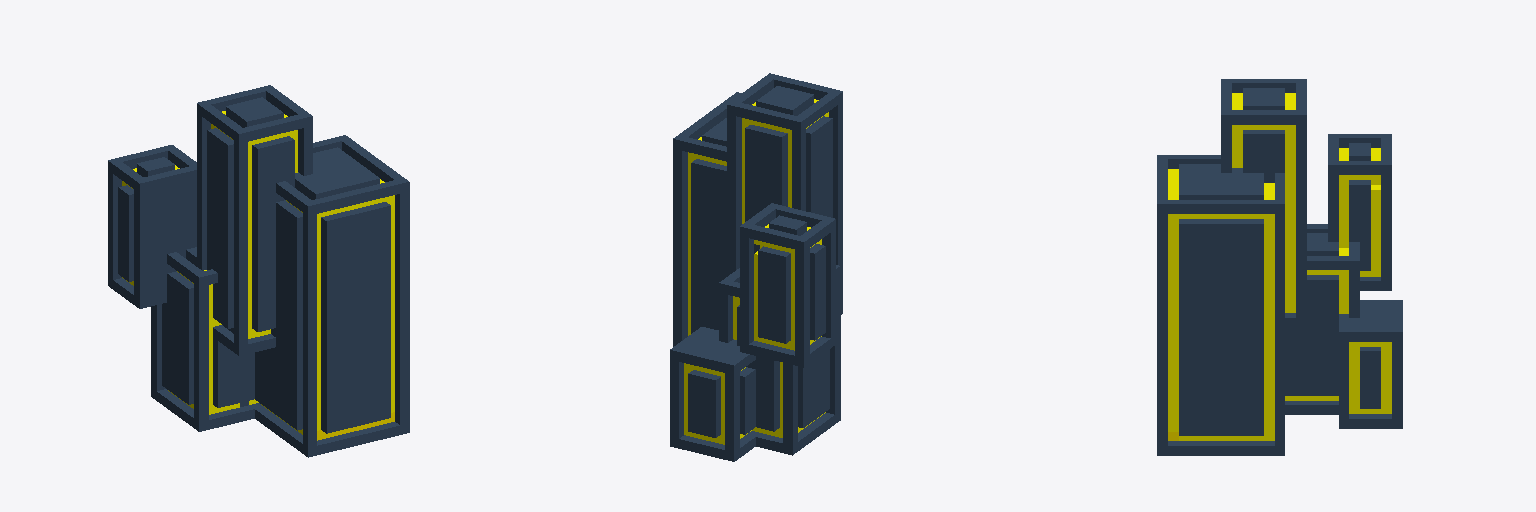
The picture shows the model from 3 angles: view 1: azimuth 30°, elevation 25°; view 2: azimuth 150°, elevation 25°; view 3: azimuth 270°, elevation 25°; orthographic projection.
Parts seen in each view (by area): view 1: object 1; view 2: object 1; view 3: object 1.
Boxes of the visible parts, x1,y1,x2,y2 form: object 1: [108, 85, 409, 457]; object 1: [670, 73, 842, 461]; object 1: [1157, 79, 1402, 455].
Size of the model in its own units: 2 by 3.2 by 2.3.
Materials: 1 (1 with a texture image).